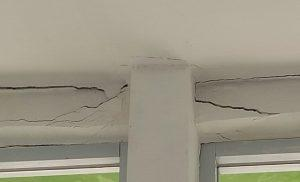Crack: (0, 77, 132, 130), (193, 73, 300, 116)
